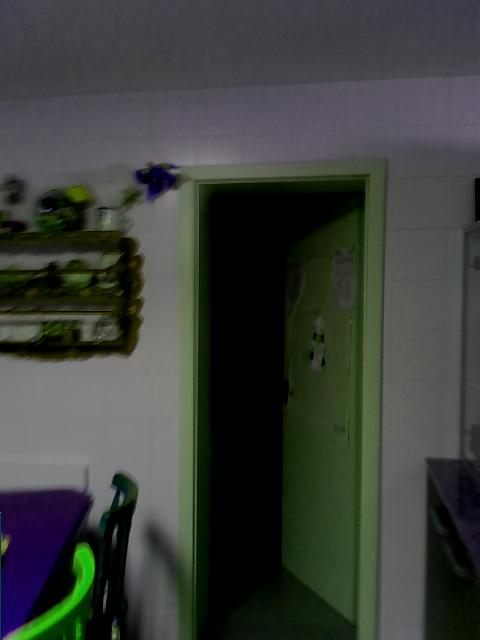semi_door: (173, 157, 387, 639)
